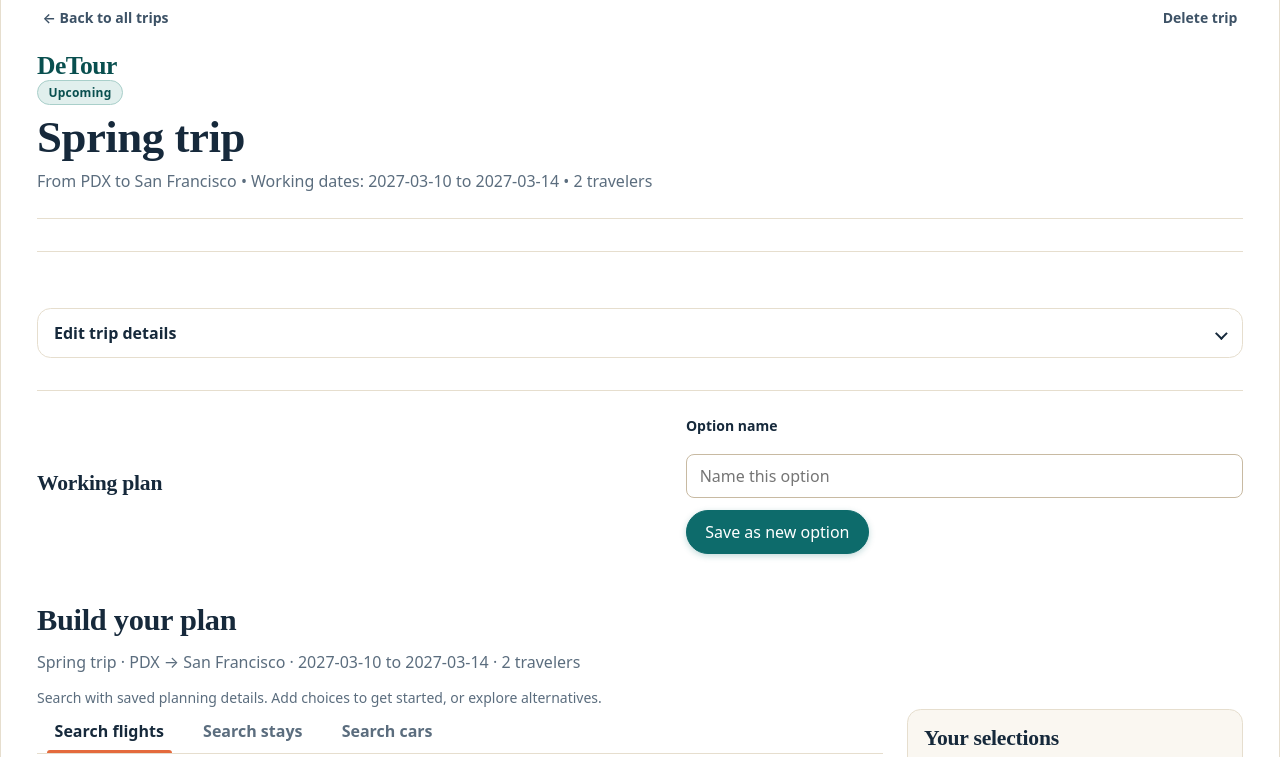
Test case: Saved option lifecycle › does not hide a failed new-option save after an unrelated rename succeeds
Step 1. Type "Another choice" into the field labelled "Option name" → (964, 476), box left=686, top=454, right=1243, bottom=498
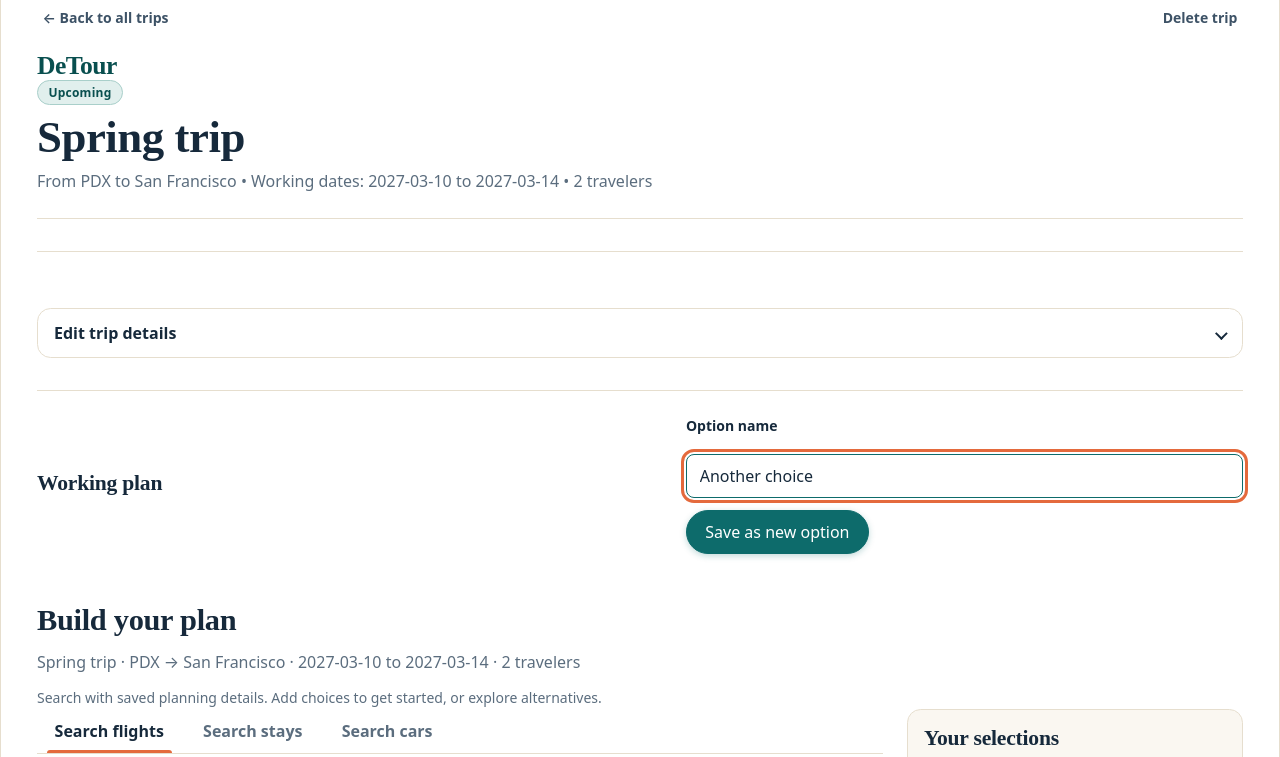
Step 2. Click the button "Save as new option" → (777, 532), box left=686, top=510, right=869, bottom=554
(page scrolled)
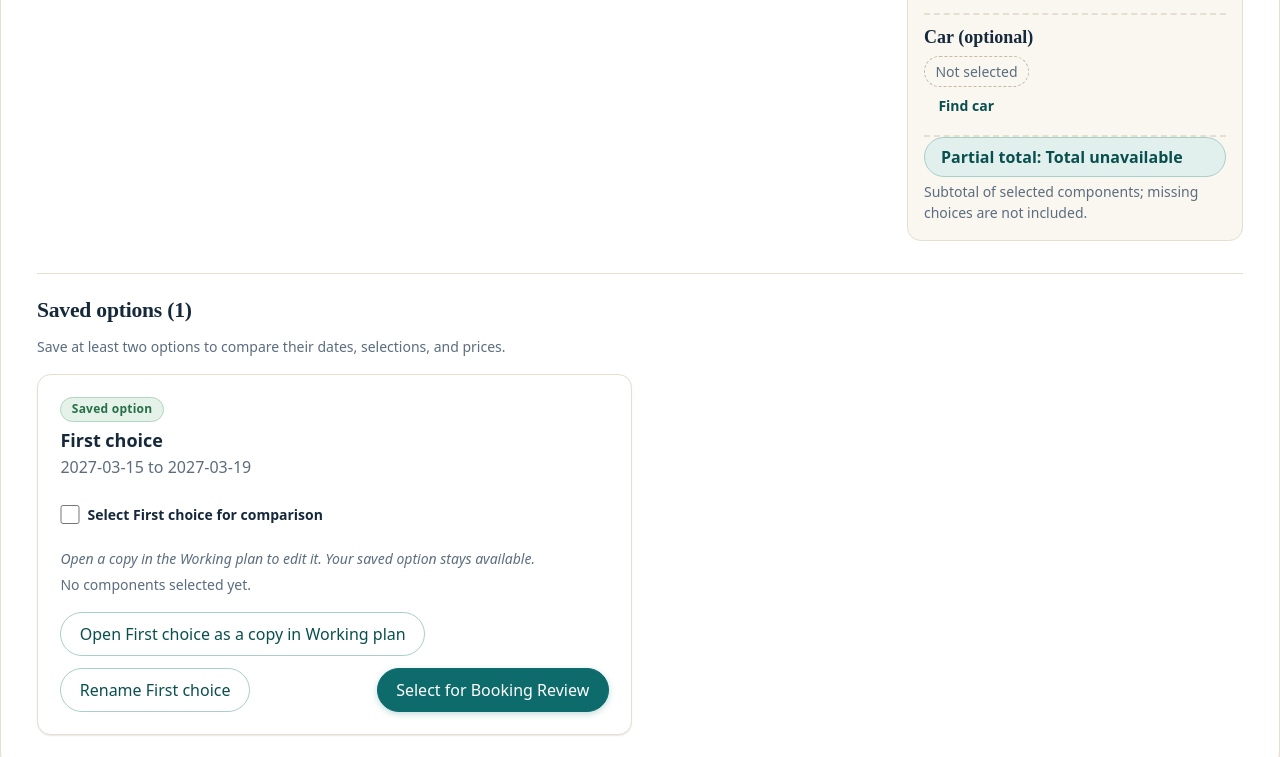
Step 3. Click the button "Rename First choice" → (155, 690), box left=60, top=668, right=250, bottom=712
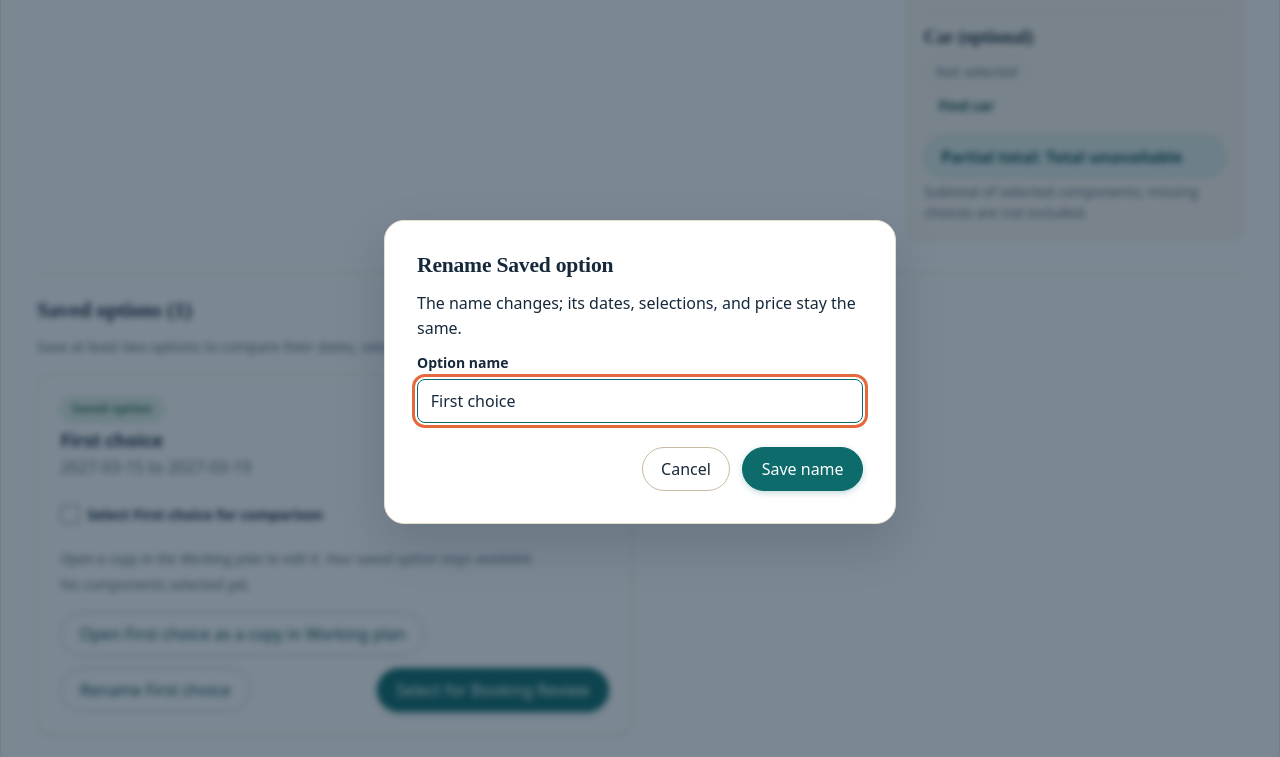
Step 4. Click the button "Save name" → (803, 469), box left=742, top=447, right=863, bottom=491
(page scrolled)
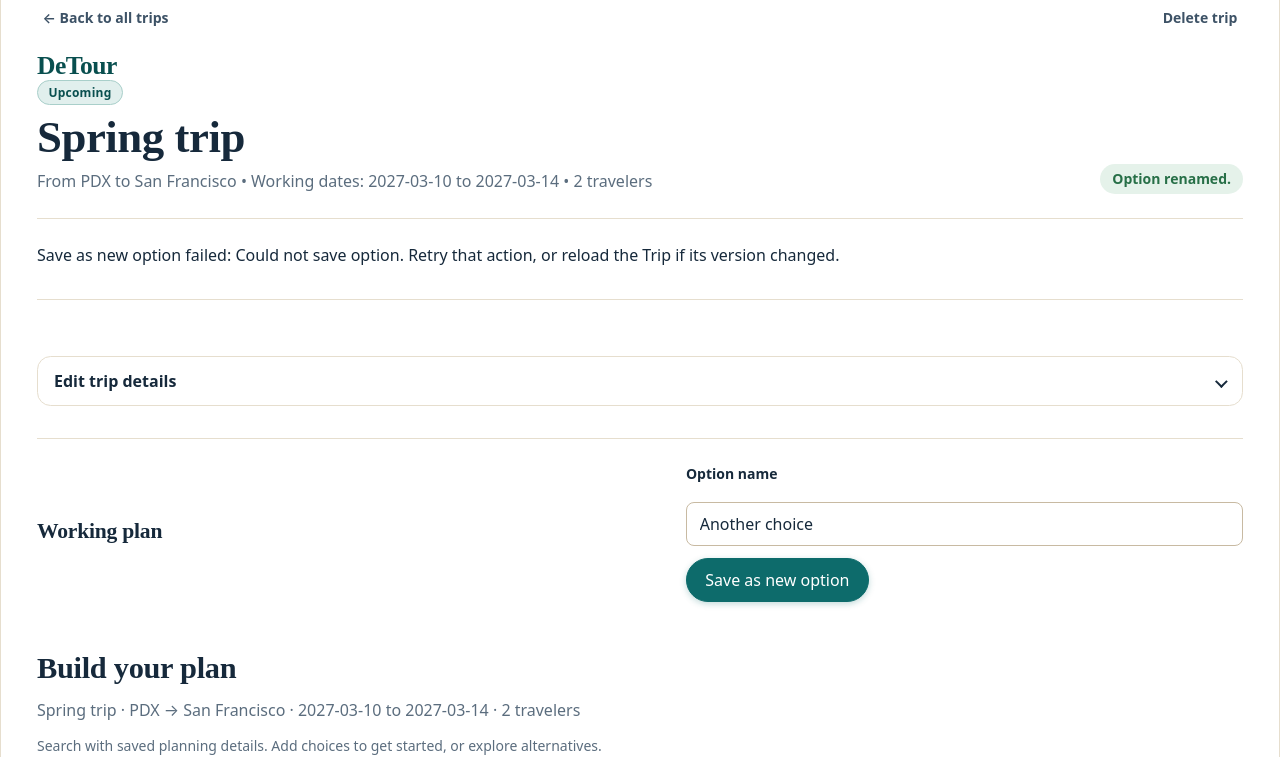
Expected: the text "Save as new option failed: Could not save option" is shown, left=37, top=244, right=839, bottom=266
Expected: the text "Option renamed." is shown, left=1112, top=168, right=1231, bottom=189
